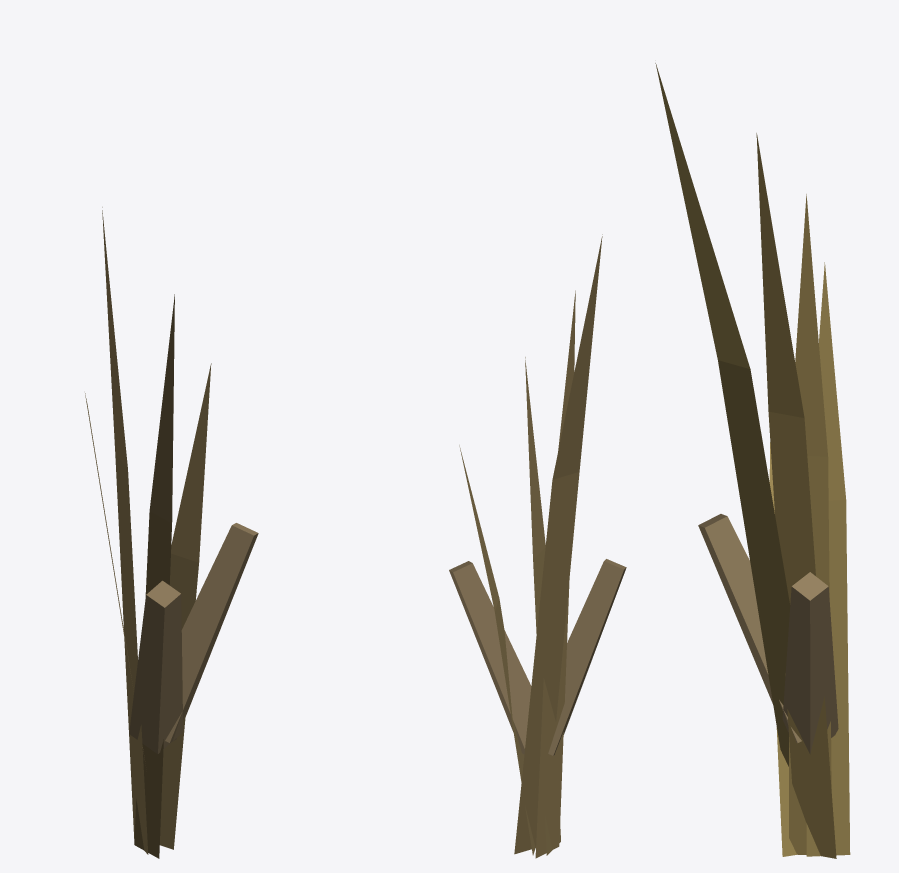
Rendered from shui.changpu@subadult__autumn.glb.
The picture shows the model from 3 angles, left to right: view 1: azimuth 30°, elevation 25°; view 2: azimuth 150°, elevation 25°; view 3: azimuth 270°, elevation 25°; orthographic projection. The views are drawn at different scales.
Visible parts, largest first — view 1: shui.changpu@subadult__autumn; view 2: shui.changpu@subadult__autumn; view 3: shui.changpu@subadult__autumn.
Boxes of the visible parts, left/top/right/bottom form: shui.changpu@subadult__autumn: left=85, top=207, right=258, bottom=858; shui.changpu@subadult__autumn: left=449, top=234, right=626, bottom=858; shui.changpu@subadult__autumn: left=655, top=63, right=850, bottom=858.
Bounding box in the file's own units: 0.3223 × 0.8938 × 0.2103.
